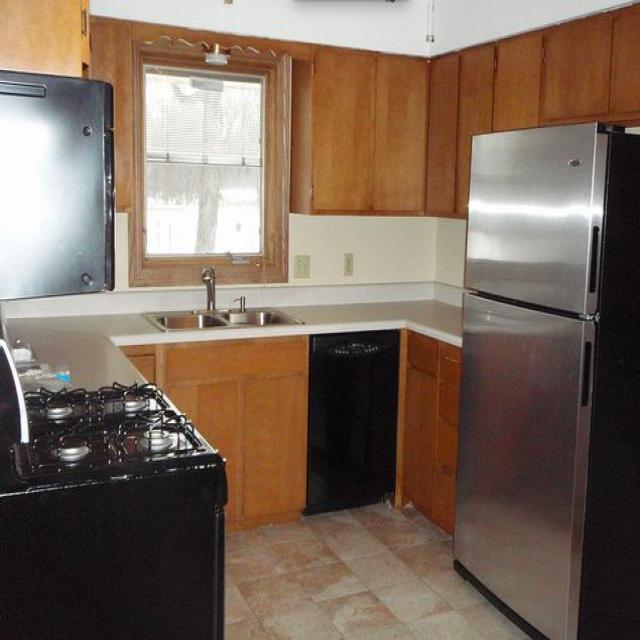dishwasher: (307, 327, 394, 516)
